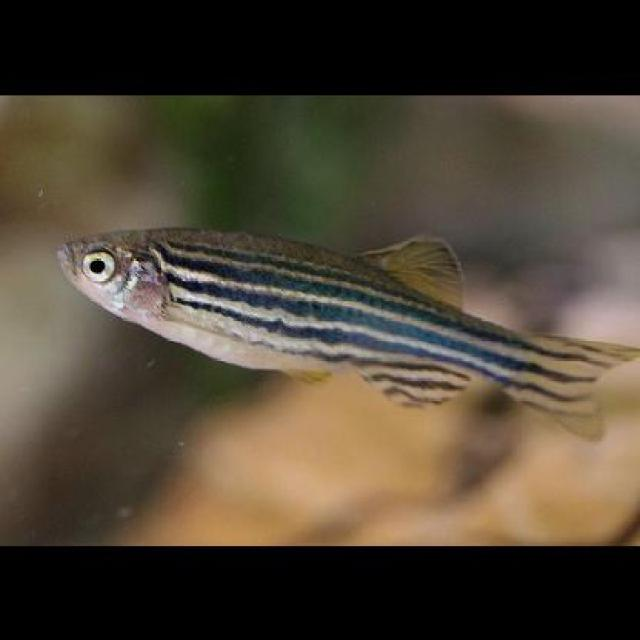ZebraFish: (60, 218, 638, 444)
